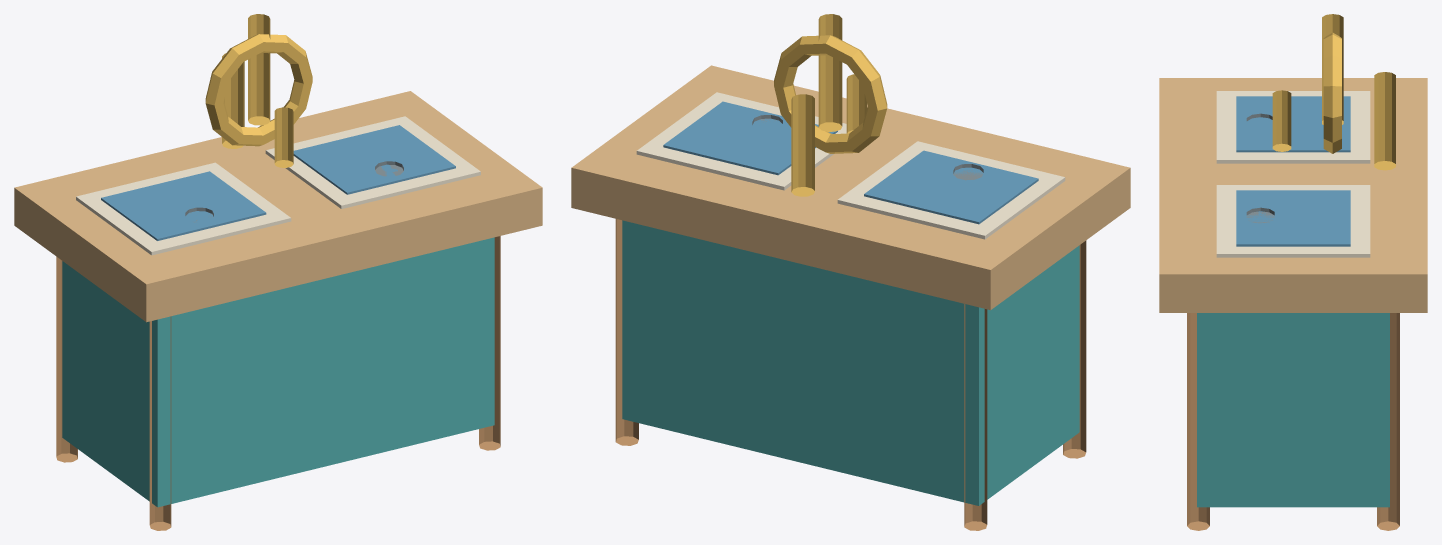
The model's file is sink_wood_double.glb.
The picture shows the model from 3 angles, left to right: view 1: azimuth 30°, elevation 25°; view 2: azimuth 150°, elevation 25°; view 3: azimuth 270°, elevation 25°; orthographic projection. The views are drawn at different scales.
Visible parts, largest first — view 1: sink_wood_double; view 2: sink_wood_double; view 3: sink_wood_double.
Part boxes in pixels (x1,y1,x2,y2): sink_wood_double: [14, 14, 542, 530]; sink_wood_double: [571, 14, 1130, 530]; sink_wood_double: [1159, 14, 1427, 530].
Size of the model in its own units: 1.42 by 1.44 by 0.82.
